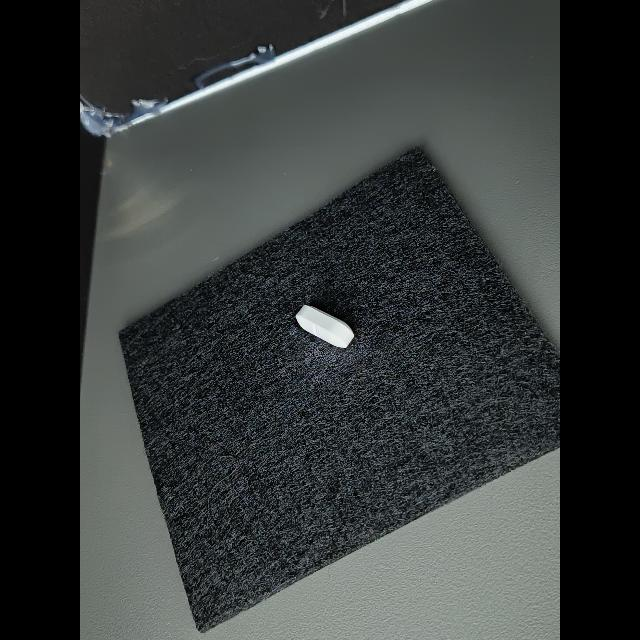Intact Pill: (296, 305, 354, 348)
